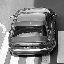mobil: (6, 6, 58, 55)
